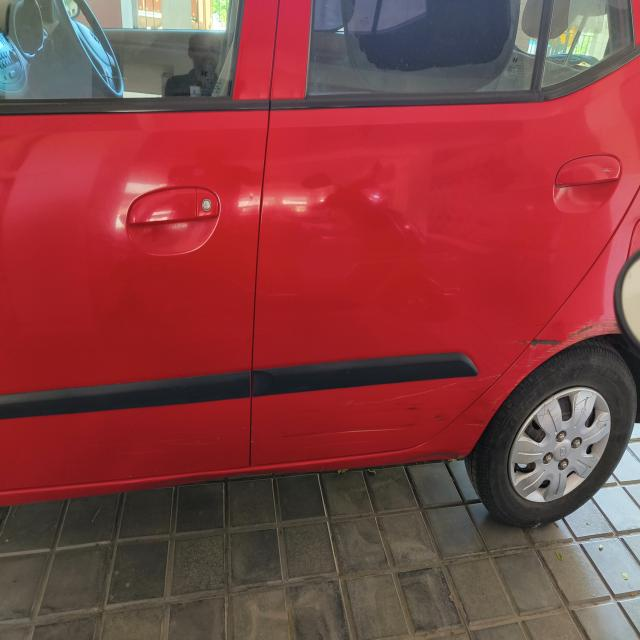scratch: (276, 418, 414, 447), (398, 394, 490, 436), (504, 321, 568, 364), (566, 314, 630, 356)
